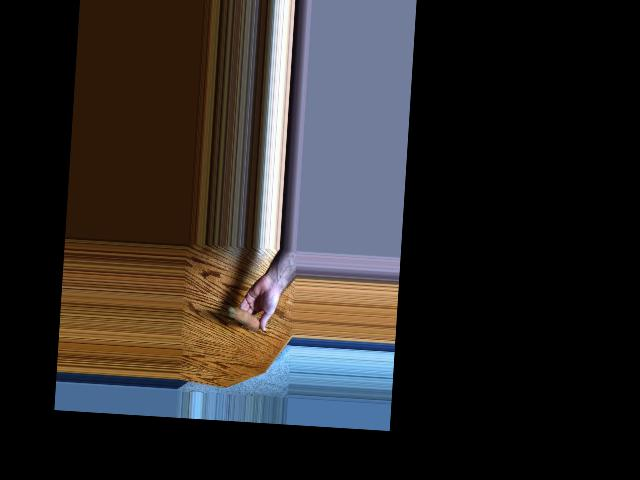sweet_potato: (226, 304, 263, 331)
